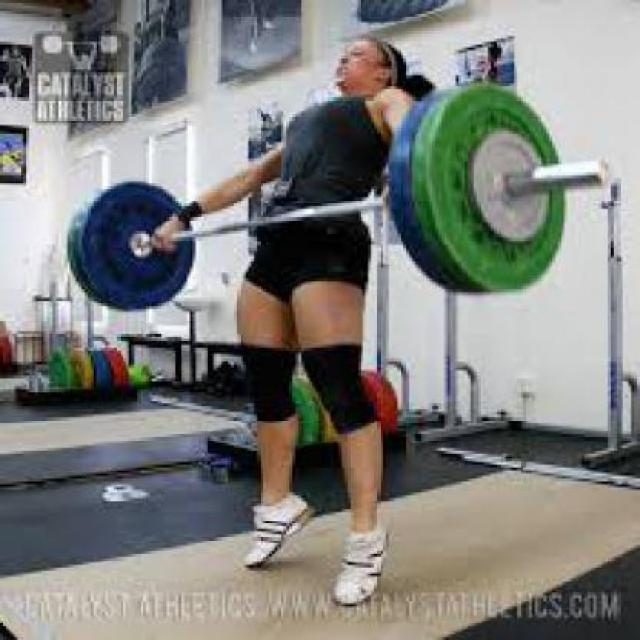Barbell: (590, 153, 618, 189)
